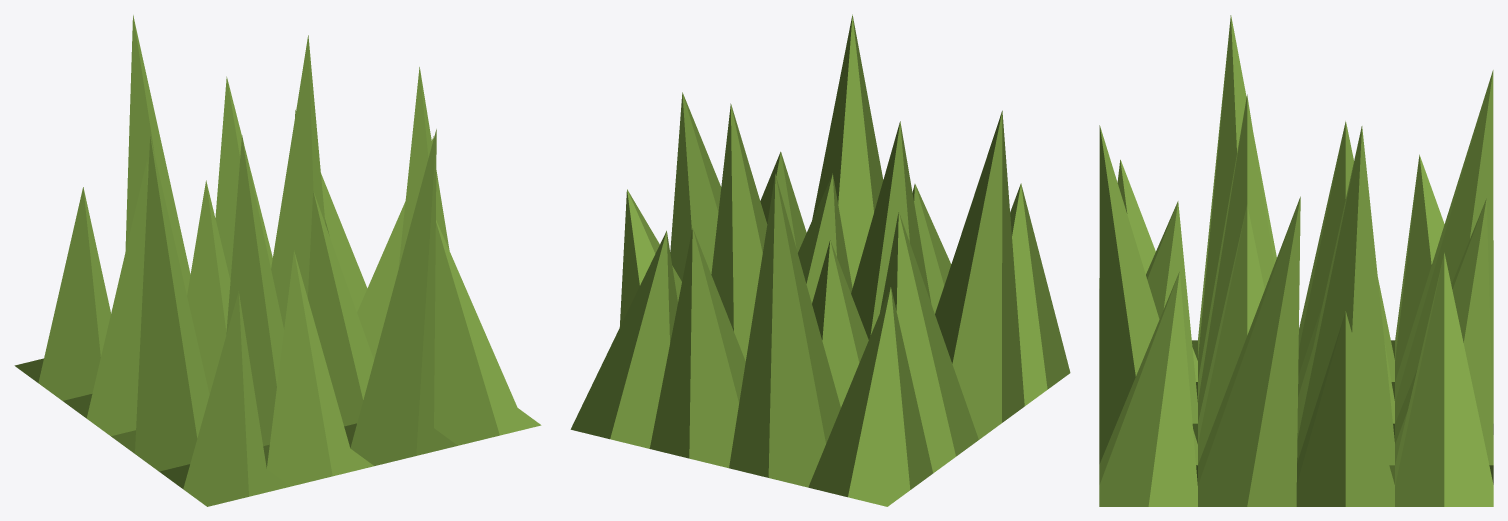
File: grass.fbx
3 views of the same model, side by side, from view 1: azimuth 30°, elevation 25°; view 2: azimuth 150°, elevation 25°; view 3: azimuth 270°, elevation 25° (orthographic). The views are drawn at different scales.
Parts seen in each view (by area): view 1: Cube; view 2: Cube; view 3: Cube.
Boxes of the visible parts, x1,y1,x2,y2 form: Cube: (14,15,541,506); Cube: (570,14,1070,506); Cube: (1099,15,1493,506).
Bounding box in the file's own units: 208 × 185 × 200.
